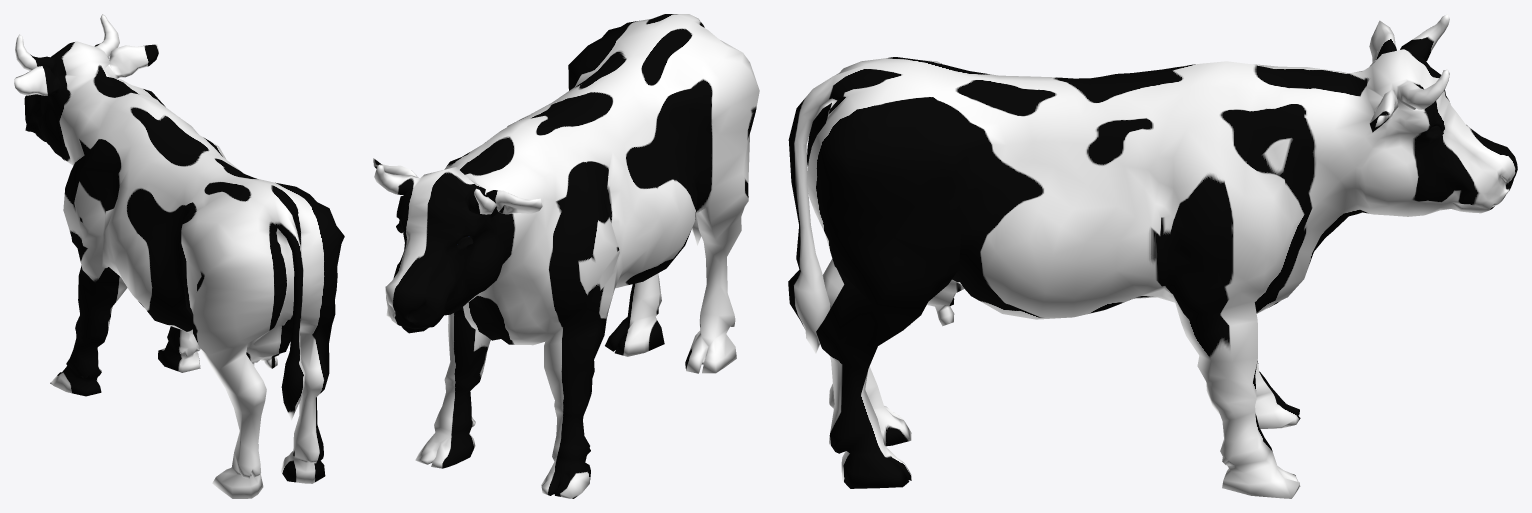
Rendered from cOW.FBX.
3 views of the same model, side by side, from view 1: azimuth 30°, elevation 25°; view 2: azimuth 150°, elevation 25°; view 3: azimuth 270°, elevation 25° (orthographic). The views are drawn at different scales.
Parts seen in each view (by area): view 1: Cube; view 2: Cube; view 3: Cube.
Boxes of the visible parts, bbox=[...] form: Cube: bbox=[14, 14, 344, 498]; Cube: bbox=[373, 14, 759, 498]; Cube: bbox=[788, 14, 1517, 498].
Bounding box in the file's own units: 3.07 × 6.22 × 9.84.
Materials: 2 (2 with a texture image).
